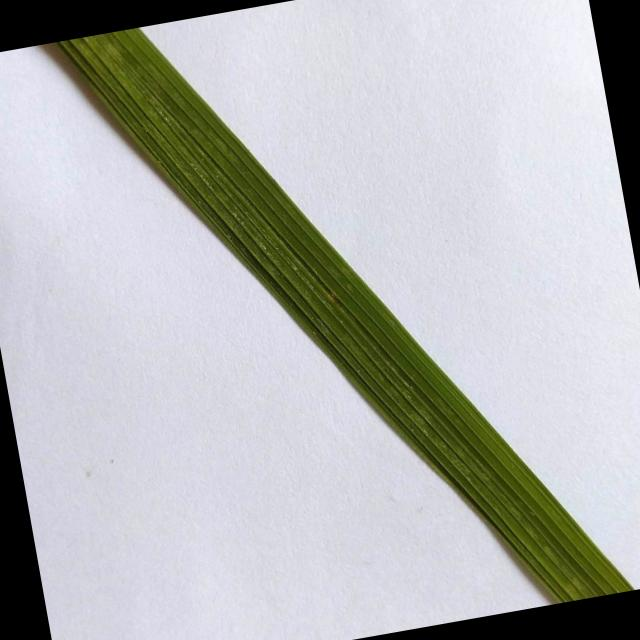Rice_Healthy: (58, 27, 634, 602)
